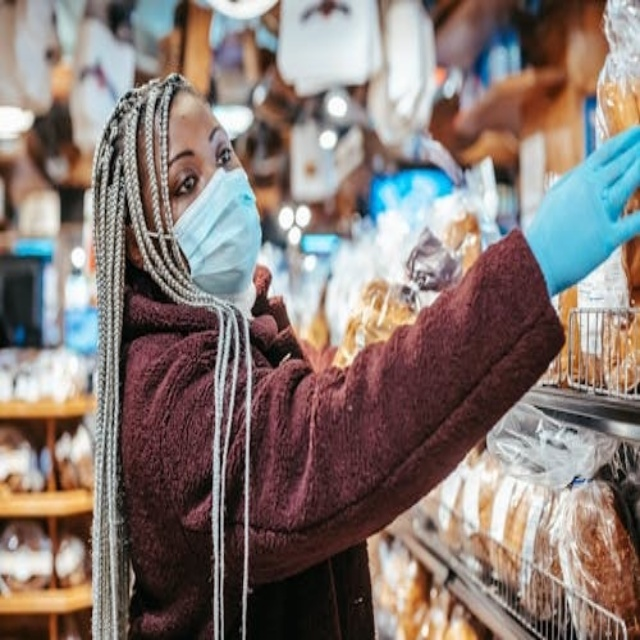Guantes: (526, 121, 640, 300)
Mascara: (171, 164, 262, 302)
Sin_gafas: (157, 125, 239, 209)
